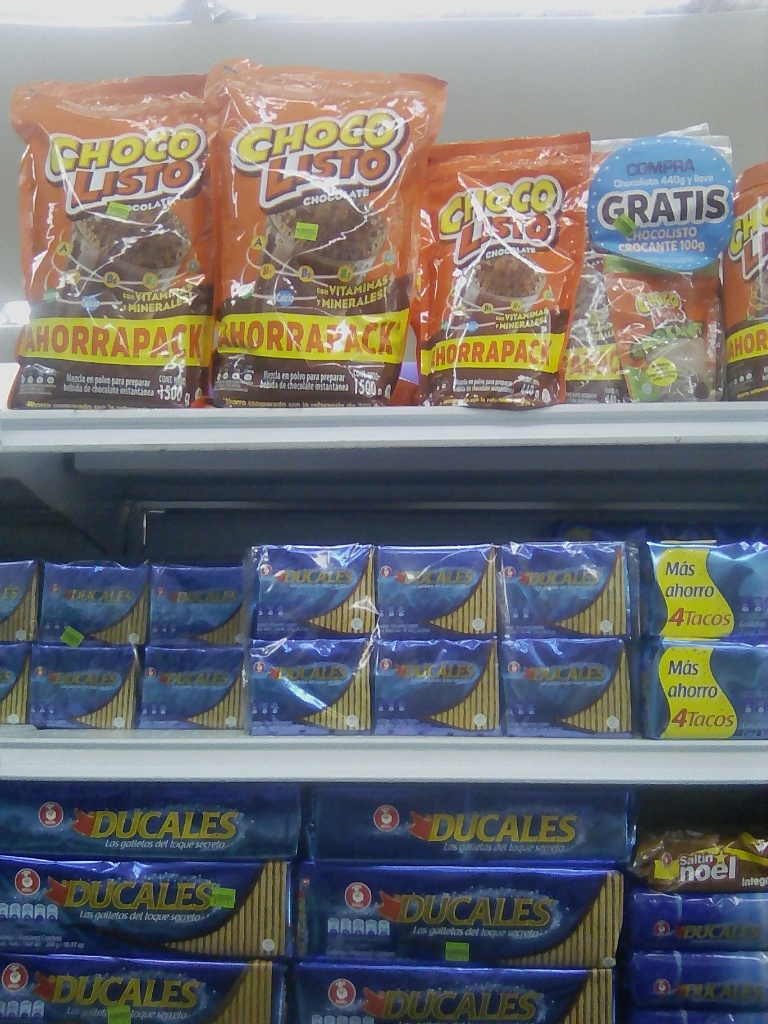COL0170102DYP10000: (594, 251, 725, 409)
COL0170103DYP1,500: (6, 70, 216, 409)
COL0170103DYP44000: (418, 126, 594, 414)
